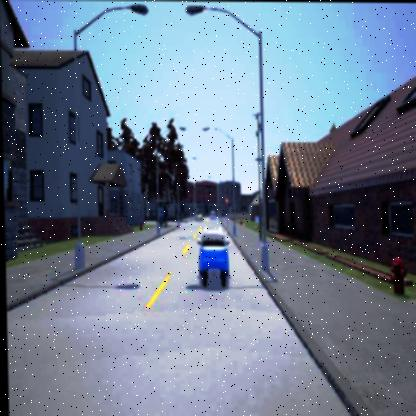vehicle: (195, 223, 228, 286)
